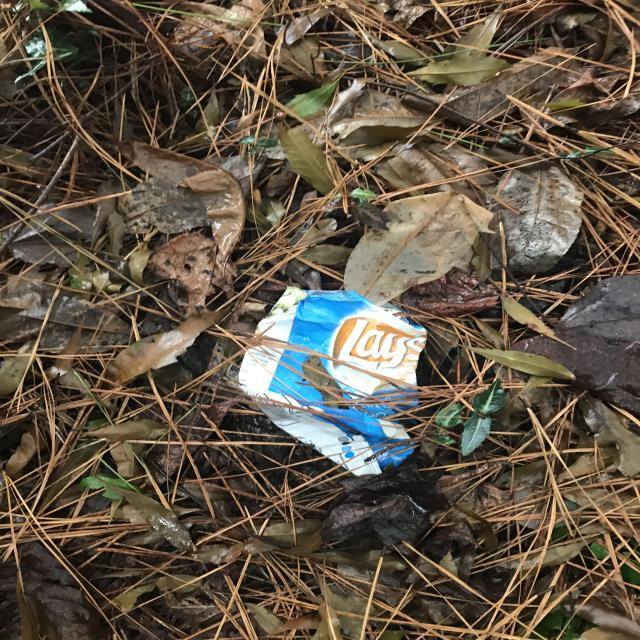litter: (231, 275, 443, 489)
